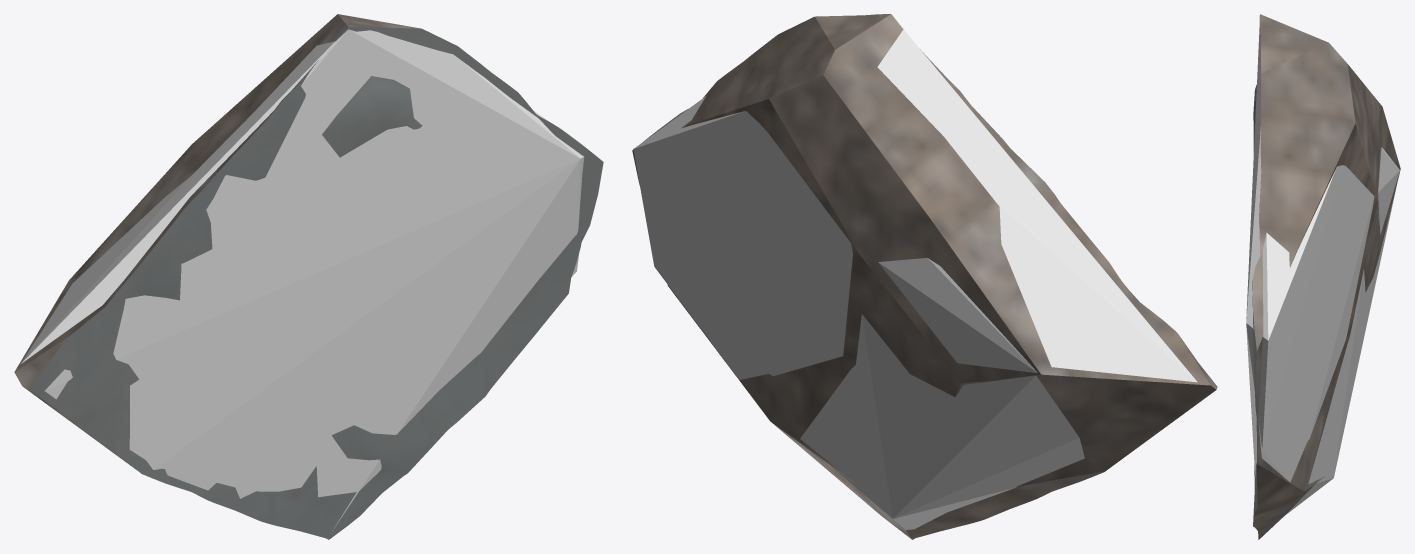
Rendered from SM_Rock_13.fbx.
3 views of the same model, side by side, from view 1: azimuth 30°, elevation 25°; view 2: azimuth 150°, elevation 25°; view 3: azimuth 270°, elevation 25° (orthographic). The views are drawn at different scales.
Parts seen in each view (by area): view 1: SM_Rock_13_ConvexHulls, SM_Rock_13_LOD0; view 2: SM_Rock_13_ConvexHulls, SM_Rock_13_LOD0; view 3: SM_Rock_13_ConvexHulls, SM_Rock_13_LOD0.
Part boxes in pixels (x1,y1,x2,y2): SM_Rock_13_ConvexHulls: (21, 29, 584, 530); SM_Rock_13_LOD0: (14, 14, 603, 539); SM_Rock_13_ConvexHulls: (633, 29, 1197, 529); SM_Rock_13_LOD0: (632, 14, 1217, 539); SM_Rock_13_ConvexHulls: (1246, 25, 1399, 515); SM_Rock_13_LOD0: (1252, 14, 1400, 539).
Bounding box in the file's own units: 38.46 × 8.45 × 32.37.
